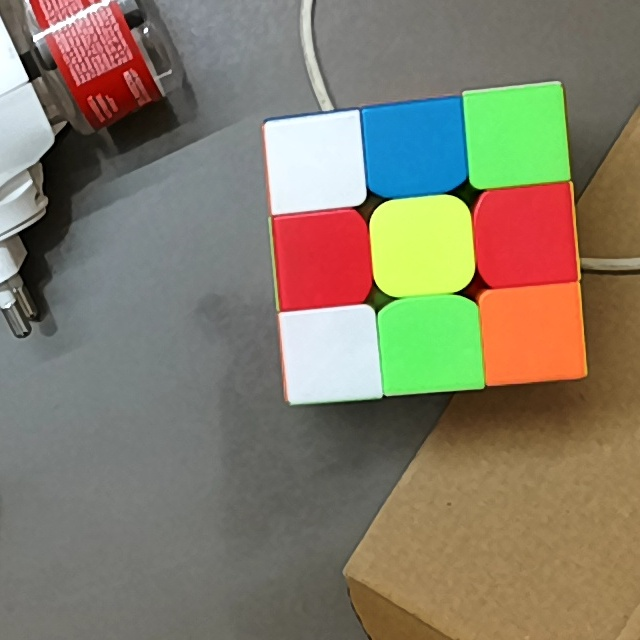tile: (472, 100, 562, 179), (291, 316, 376, 398), (490, 295, 581, 371), (489, 197, 569, 278), (392, 307, 474, 386), (271, 124, 354, 202), (283, 218, 361, 297), (375, 112, 456, 185), (384, 214, 457, 286)
